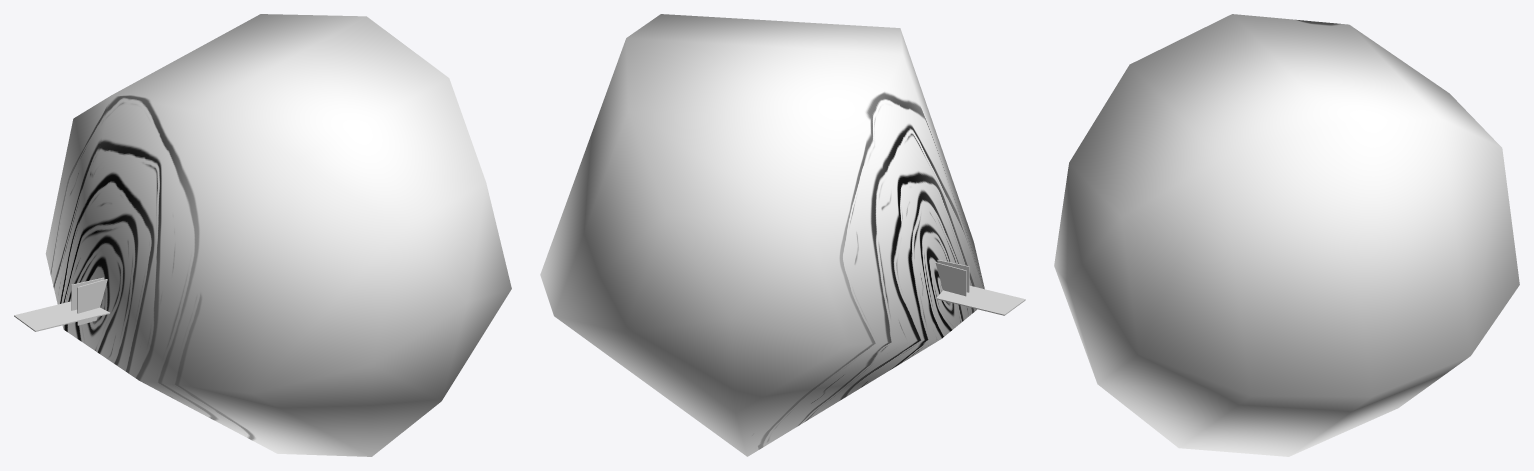
3 renders of one model, left to right at view 1: azimuth 30°, elevation 25°; view 2: azimuth 150°, elevation 25°; view 3: azimuth 270°, elevation 25°, orthographic.
Visible parts, largest first — view 1: sky, MUR, MUR.004; view 2: sky, MUR, MUR.001; view 3: sky.
Part boxes in pixels (<box>): sky: <box>45,14,511,456</box>; MUR: <box>14,301,109,331</box>; MUR.004: <box>77,279,107,325</box>; sky: <box>540,14,984,456</box>; MUR: <box>936,285,1025,315</box>; MUR.001: <box>935,262,966,296</box>; sky: <box>1054,14,1519,456</box>.
Size of the model in its own units: 525 by 436 by 473.
1 material, 1 textured.
